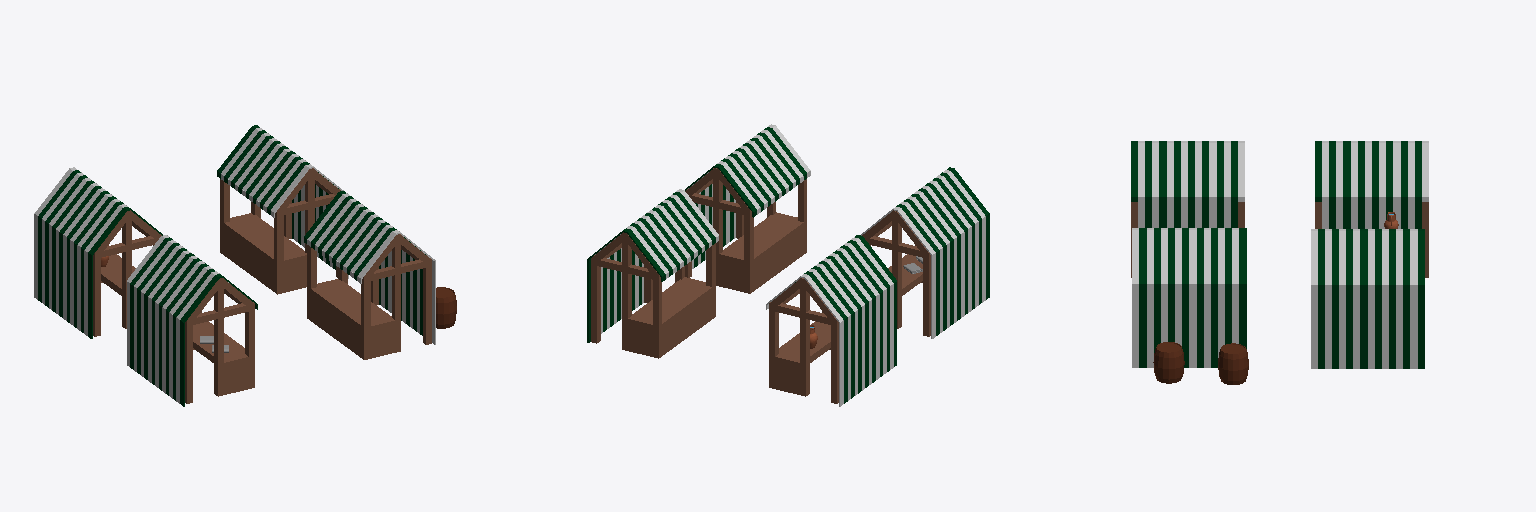
The model's file is market_green_white.obj.
3 renders of one model, left to right at view 1: azimuth 30°, elevation 25°; view 2: azimuth 150°, elevation 25°; view 3: azimuth 270°, elevation 25°, orthographic.
Parts seen in each view (by area): view 1: Cube.060_Cube.235, Cube.156_Cube.225, Cube.052_Cube.004, Cube.056_Cube.178, Cube.147_Cube.153, Cube.001_Cube.064, Barrel1.001; view 2: Cube.156_Cube.225, Cube.060_Cube.235, Cube.056_Cube.178, Cube.052_Cube.004, Cube.001_Cube.064, Cube.147_Cube.153, Cube.025_Cube.001, Cube.057_Cube.179; view 3: Cube.156_Cube.225, Cube.060_Cube.235, Cube.001_Cube.064, Cube.147_Cube.153, Barrel1.001, Barrel1.
Part boxes in pixels (x1,y1,x2,y2): Cube.060_Cube.235: (127,235,257,406); Cube.156_Cube.225: (34,167,162,338); Cube.052_Cube.004: (309,234,431,359); Cube.056_Cube.178: (222,168,340,294); Cube.147_Cube.153: (379,250,435,344); Cube.001_Cube.064: (292,184,348,278); Barrel1.001: (436,287,456,328); Cube.156_Cube.225: (766,235,896,406); Cube.060_Cube.235: (861,167,989,338); Cube.056_Cube.178: (591,232,715,356); Cube.052_Cube.004: (685,168,806,292); Cube.001_Cube.064: (587,248,643,342); Cube.147_Cube.153: (692,184,735,268); Cube.025_Cube.001: (744,210,753,293); Cube.057_Cube.179: (653,275,661,358); Cube.156_Cube.225: (1315,141,1428,277); Cube.060_Cube.235: (1131,141,1244,277); Cube.001_Cube.064: (1311,285,1424,368); Cube.147_Cube.153: (1132,284,1246,367); Barrel1.001: (1153,342,1184,383); Barrel1: (1218,343,1248,384).
Bounding box in the file's own units: 9.51 × 3.73 × 8.36.